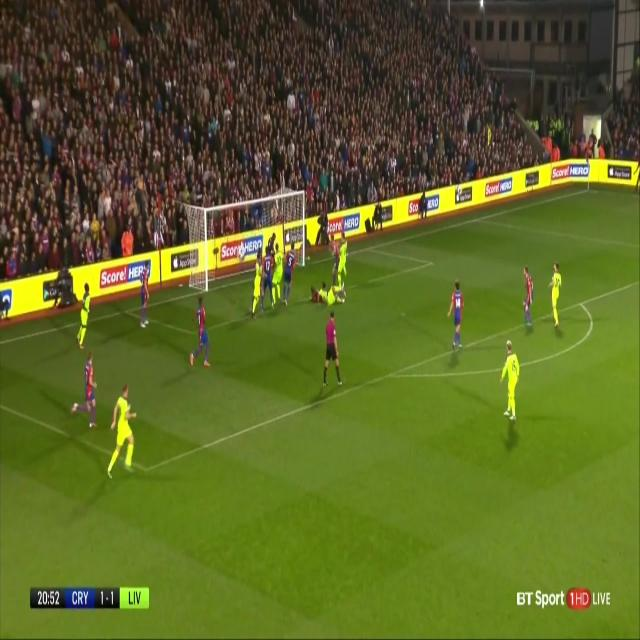Player: (105, 382, 139, 483), (69, 352, 100, 432), (499, 335, 523, 425), (187, 296, 214, 372), (447, 280, 467, 353), (547, 260, 566, 328), (259, 245, 276, 319), (74, 281, 92, 350), (520, 265, 538, 327), (137, 260, 152, 332), (282, 242, 298, 309), (270, 245, 286, 311), (250, 247, 264, 317), (315, 280, 347, 310), (338, 230, 350, 281), (328, 233, 340, 283)
Referee: (321, 310, 344, 390)
